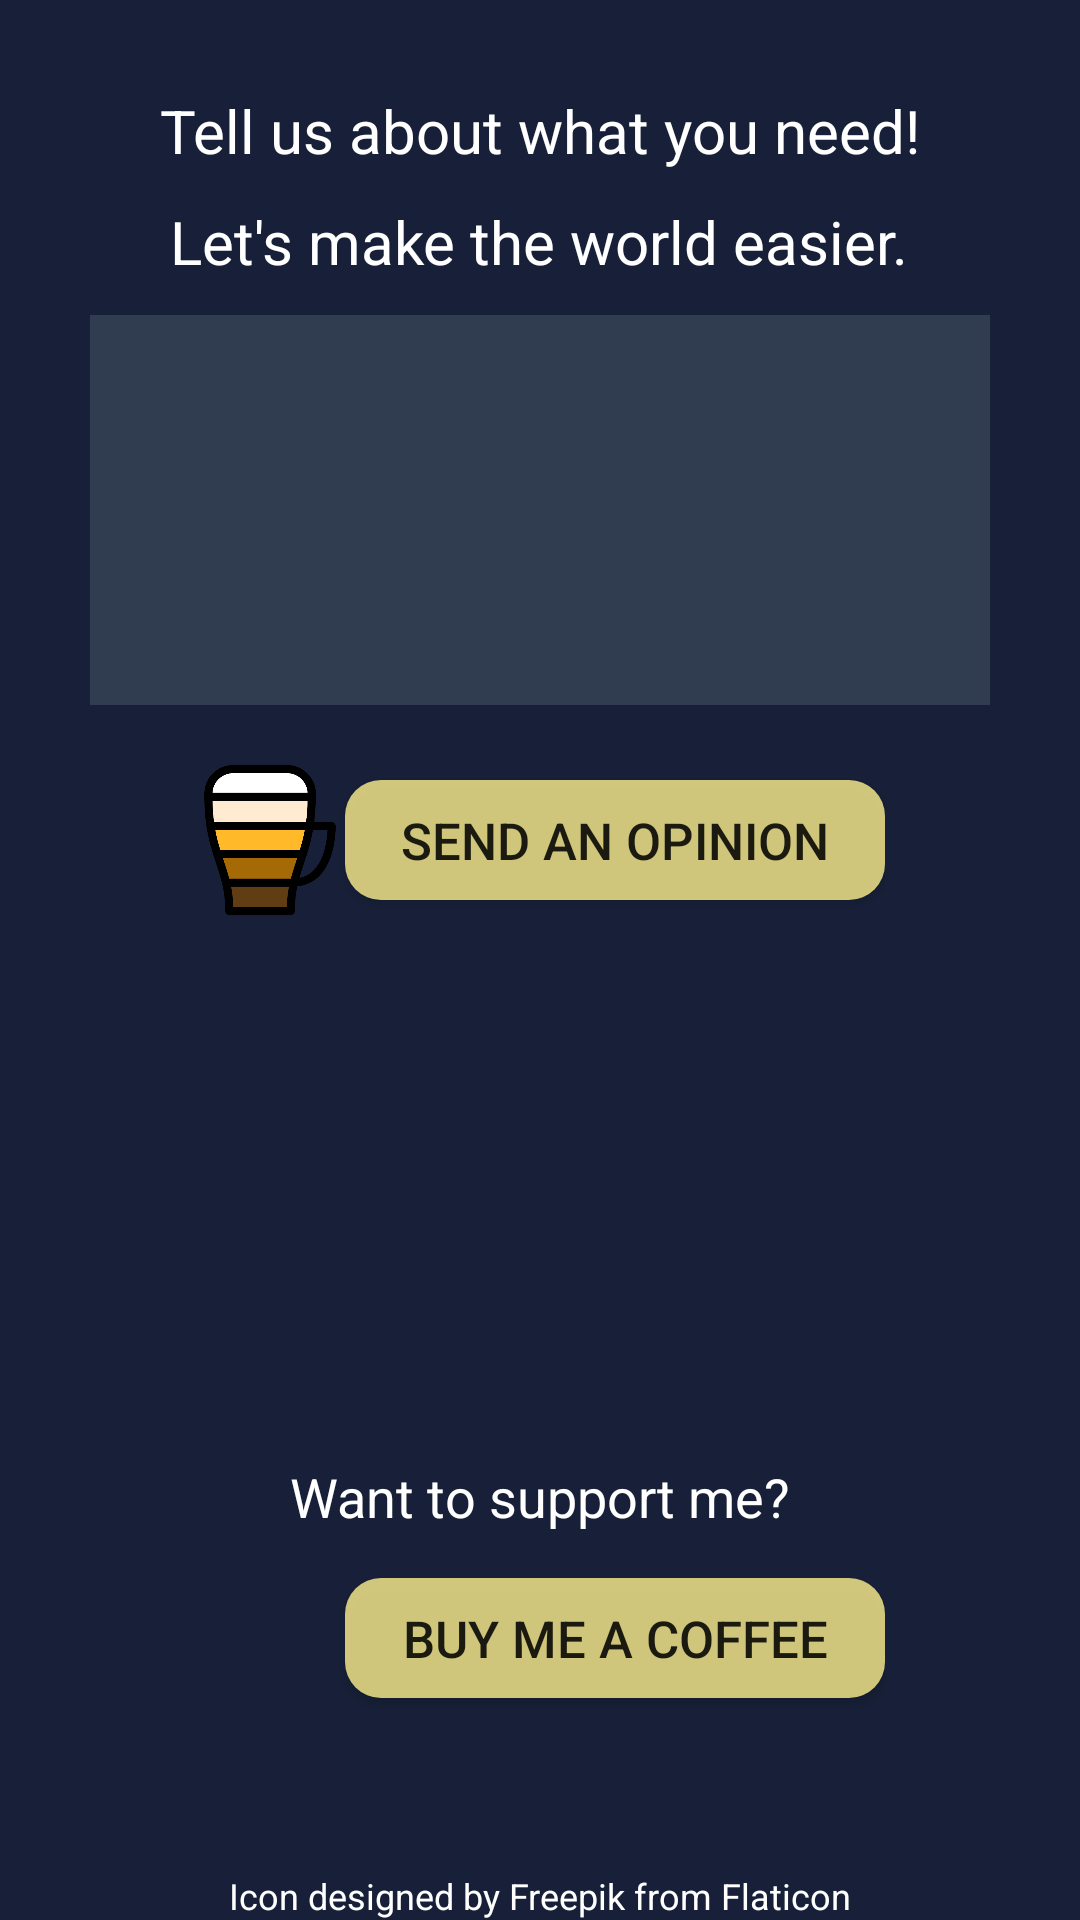

Where icons sit on this 1080px×1920px app screen, as (x1, y1, x2, y2):
irish coffee: (204, 765, 336, 915)
